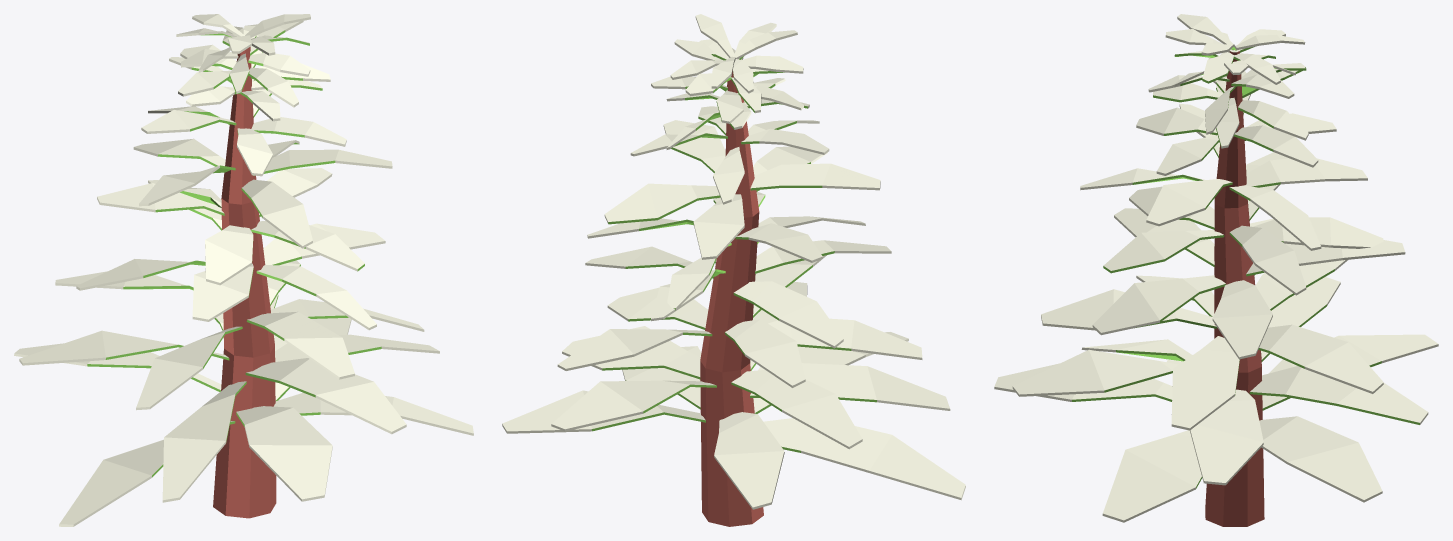
File: Tree1_winter.FBX
3 renders of one model, left to right at view 1: azimuth 30°, elevation 25°; view 2: azimuth 150°, elevation 25°; view 3: azimuth 270°, elevation 25°, orthographic. The views are drawn at different scales.
Visible parts, largest first — view 1: Tree 1 winter; view 2: Tree 1 winter; view 3: Tree 1 winter.
Boxes of the visible parts, x1,y1,x2,y2 form: Tree 1 winter: (14, 14, 473, 526); Tree 1 winter: (502, 14, 965, 526); Tree 1 winter: (994, 14, 1438, 526).
Bounding box in the file's own units: 5.07 × 6.06 × 5.02.
